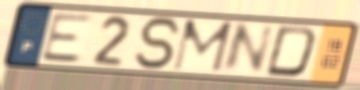2: (90, 14, 132, 68)
D: (262, 24, 320, 80)
E: (38, 12, 97, 64)
M: (169, 18, 236, 75)
N: (217, 21, 278, 75)
S: (133, 15, 186, 72)
